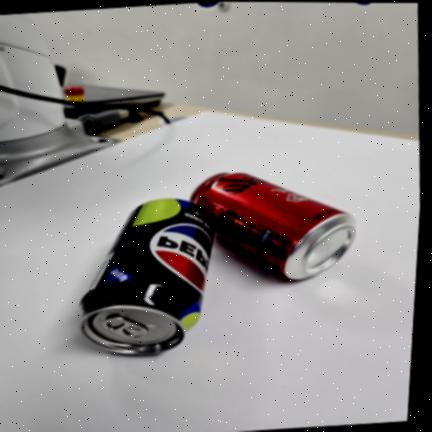can_coke_zero: (190, 172, 355, 279)
can_pepsi_zero: (80, 198, 213, 354)
